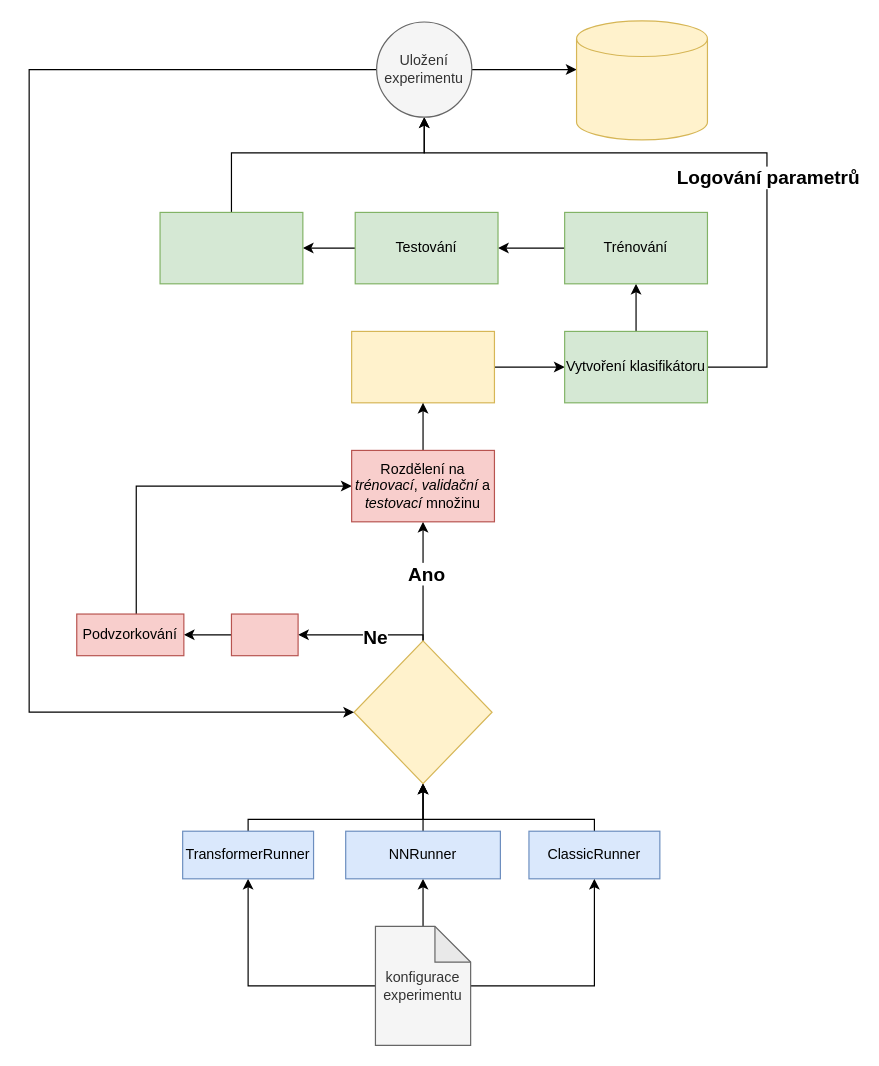
The diagram is 879 pixels wide and 1066 high, and some of its shapes have lost their labels. The centre of each missing label's shape, as x and y in pixels:
Adresář s experimenty: point (641, 80)
Evaluace nad predikovanými hodnotami: point (231, 247)
Načtená datová sada?: point (422, 712)
Načtení: point (264, 634)
Načtení aktuální konfigurační kombinace: point (422, 366)
